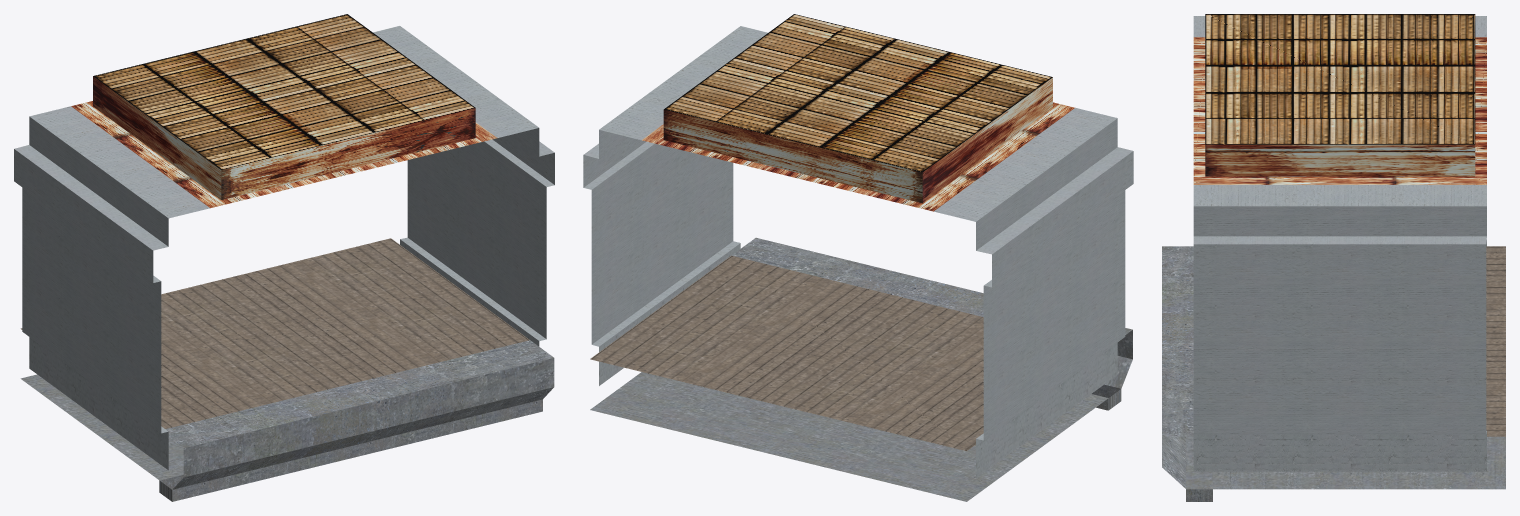
File: stageRoof.fbx
3 renders of one model, left to right at view 1: azimuth 30°, elevation 25°; view 2: azimuth 150°, elevation 25°; view 3: azimuth 270°, elevation 25°, orthographic. The views are drawn at different scales.
Parts seen in each view (by area): view 1: roof, roof_wood_flooring, right_wall, roof_cap, left_wall; view 2: roof_wood_flooring, roof, right_wall, left_wall, roof_cap; view 3: left_wall, roof, roof_wood_flooring, roof_cap.
Boxes of the visible parts, left/top/right/bottom form: roof: left=29, top=14, right=539, bottom=246; roof_wood_flooring: left=20, top=238, right=529, bottom=480; right_wall: left=14, top=145, right=168, bottom=470; roof_cap: left=159, top=340, right=554, bottom=501; left_wall: left=400, top=135, right=554, bottom=346; roof_wood_flooring: left=590, top=255, right=1108, bottom=501; roof: left=599, top=14, right=1117, bottom=250; right_wall: left=976, top=147, right=1133, bottom=477; left_wall: left=583, top=137, right=740, bottom=385; roof_cap: left=732, top=237, right=1132, bottom=410; left_wall: left=1193, top=236, right=1486, bottom=471; roof: left=1193, top=14, right=1486, bottom=236; roof_wood_flooring: left=1212, top=246, right=1505, bottom=489; roof_cap: left=1162, top=246, right=1212, bottom=501.
Size of the model in its own units: 16.67 by 12.34 by 11.74.
